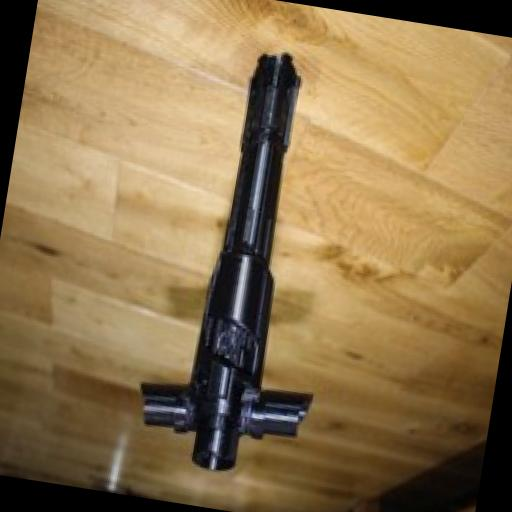lightsaber: (128, 40, 366, 485)
